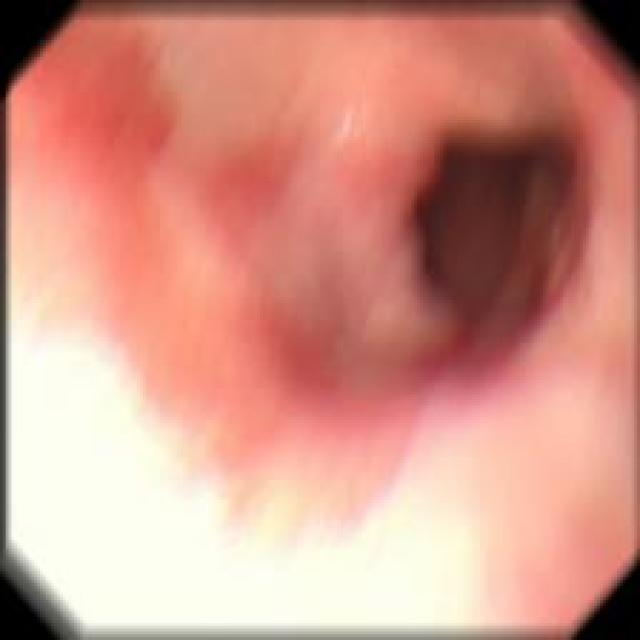blur: (1, 4, 638, 638)
contrast: (429, 130, 575, 320)
saturation: (8, 320, 480, 632)
